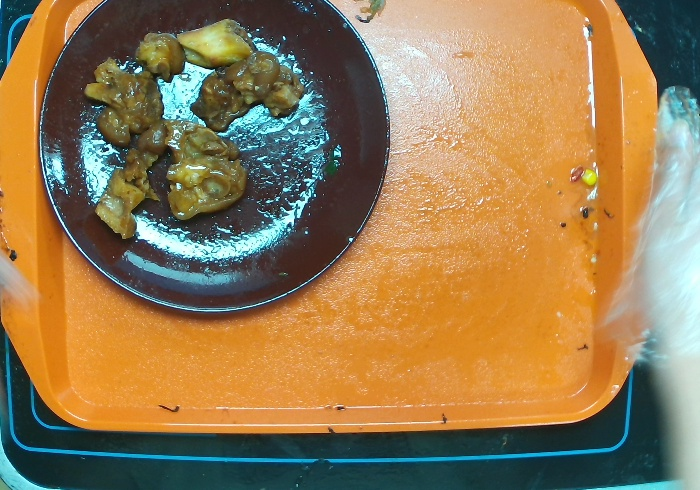HZYJPL-Ka_Fei_Yuan_Pan: (35, 1, 390, 320)
